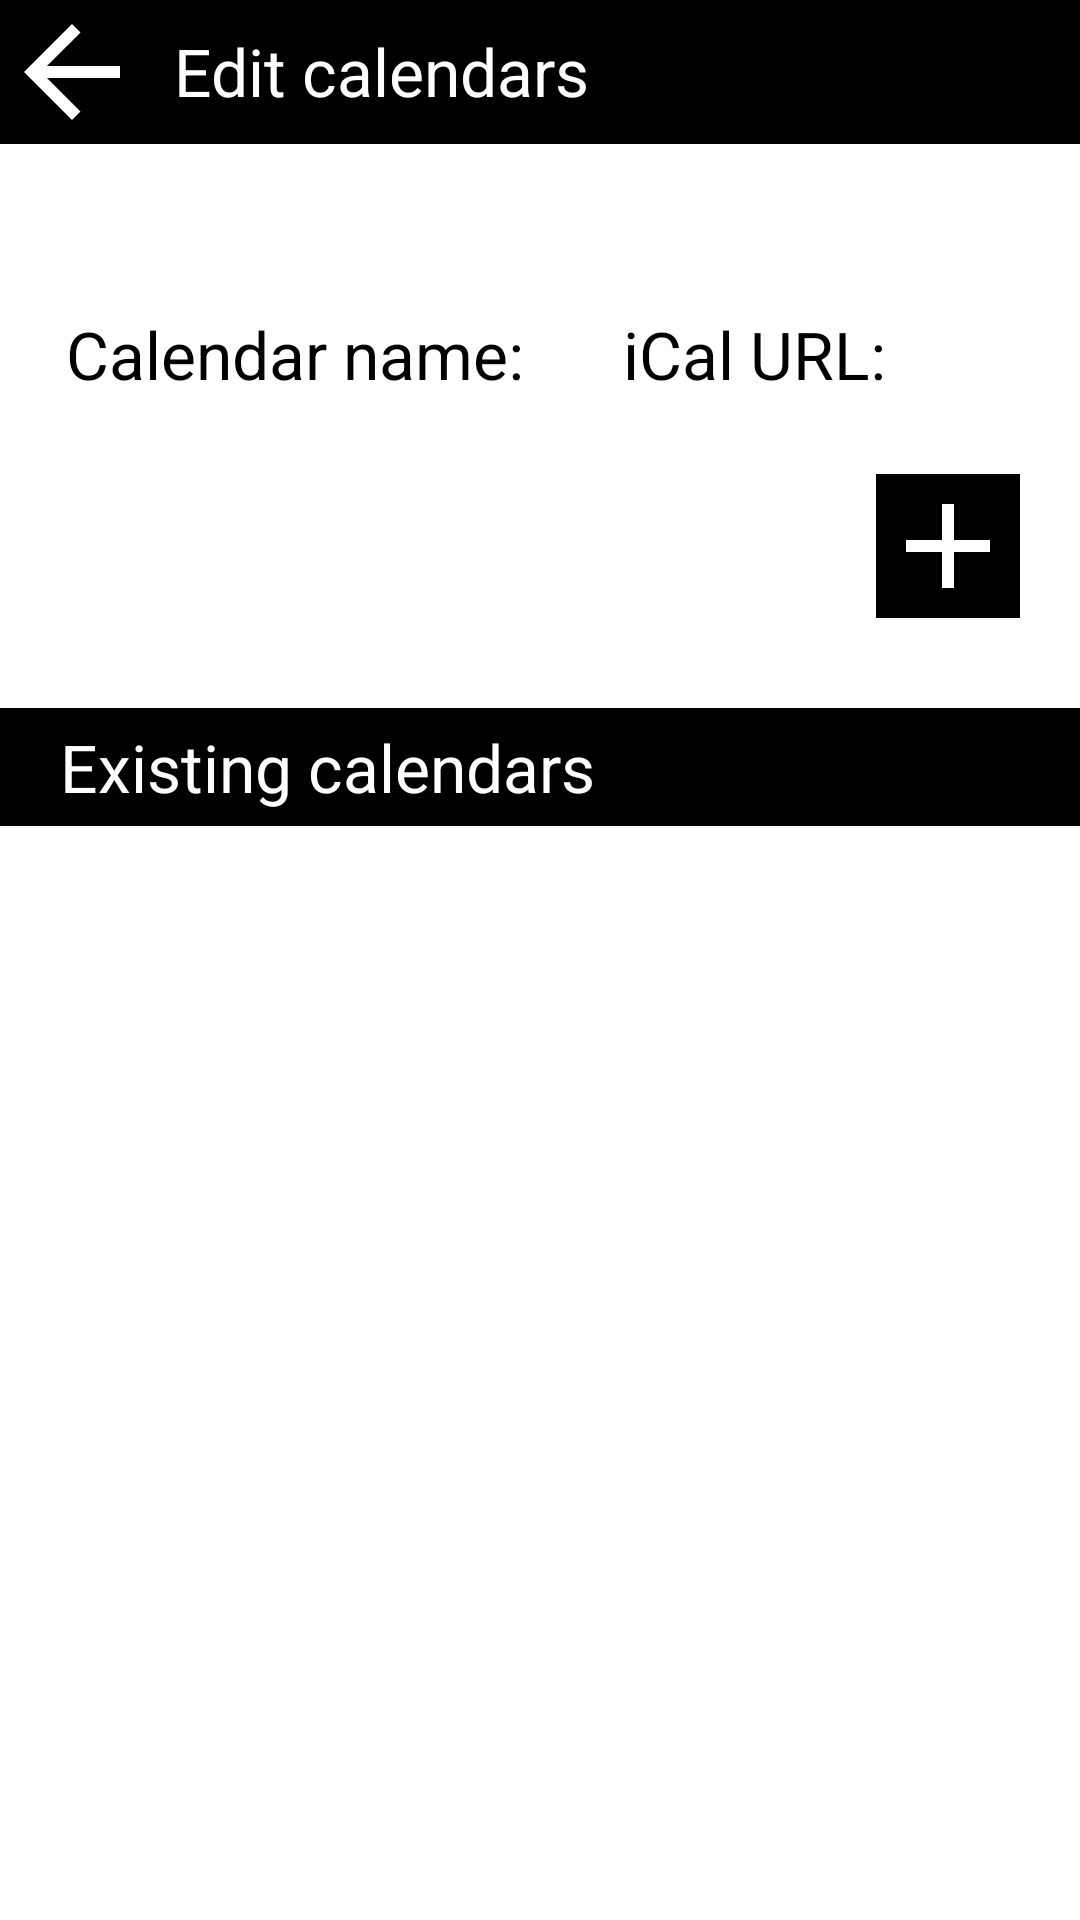

Locate icon controls on the screen. Image size 1080 x 1920, boxes as region(x1, y1, x2, y2).
addpage: region(876, 474, 1020, 618)
back: region(24, 24, 120, 120)
